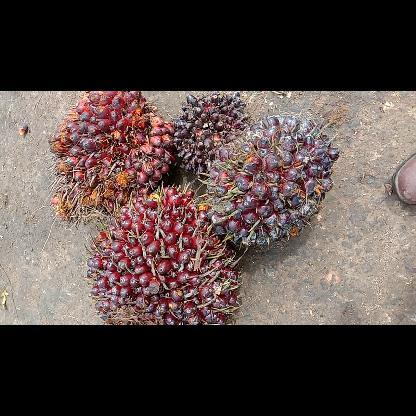Kurang masak: (84, 184, 244, 324), (205, 113, 341, 250)
TBS abnormal: (171, 92, 253, 176)
TBS masak: (44, 90, 176, 226)
